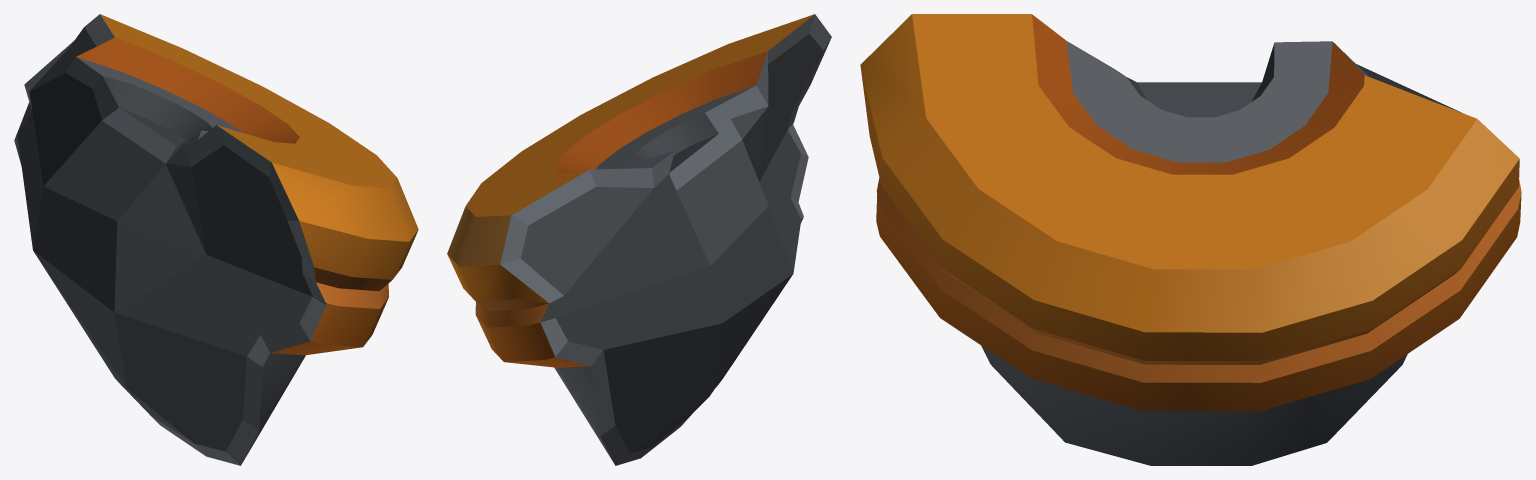
Rendered from SM_Checkpoint_Fragment_03.fbx.
The picture shows the model from 3 angles, left to right: view 1: azimuth 30°, elevation 25°; view 2: azimuth 150°, elevation 25°; view 3: azimuth 270°, elevation 25°; orthographic projection. The views are drawn at different scales.
Visible parts, largest first — view 1: SM_Checkpoint_Fragment_03; view 2: SM_Checkpoint_Fragment_03; view 3: SM_Checkpoint_Fragment_03.
Boxes of the visible parts, left/top/right/bottom form: SM_Checkpoint_Fragment_03: left=14, top=14, right=418, bottom=465; SM_Checkpoint_Fragment_03: left=447, top=14, right=831, bottom=465; SM_Checkpoint_Fragment_03: left=860, top=14, right=1521, bottom=465.
Size of the model in its own units: 1.1 by 1.36 by 1.89.
